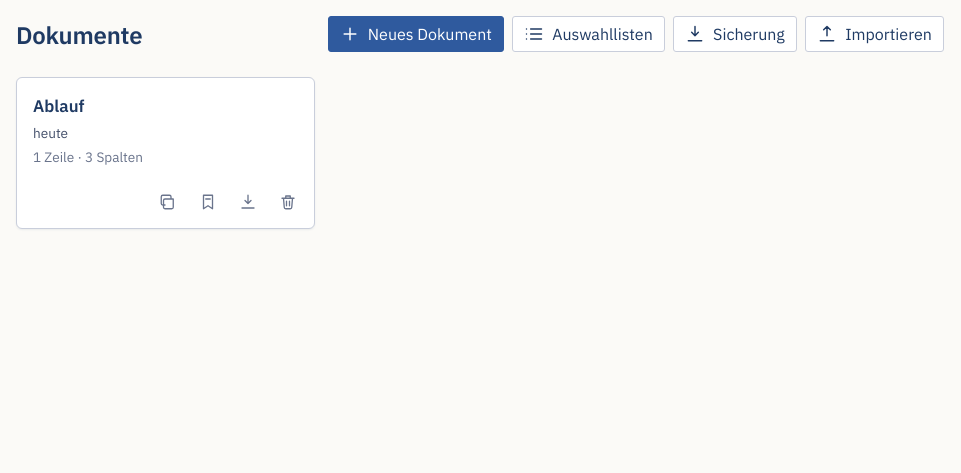
Test: templates › saves a document as a template without touching the document
Step 1. Click the button named "Als Vorlage speichern" → (208, 202), box [190, 184, 226, 220]
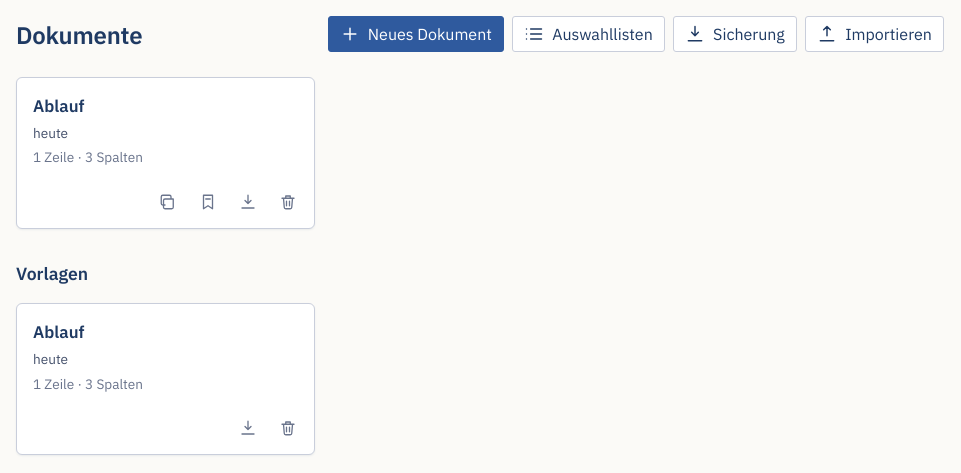
expect the text "Ablauf" below "Dokumente" is shown: met, box [33, 95, 84, 117]
expect the heading "Vorlagen" is shown: met, box [16, 262, 88, 285]
